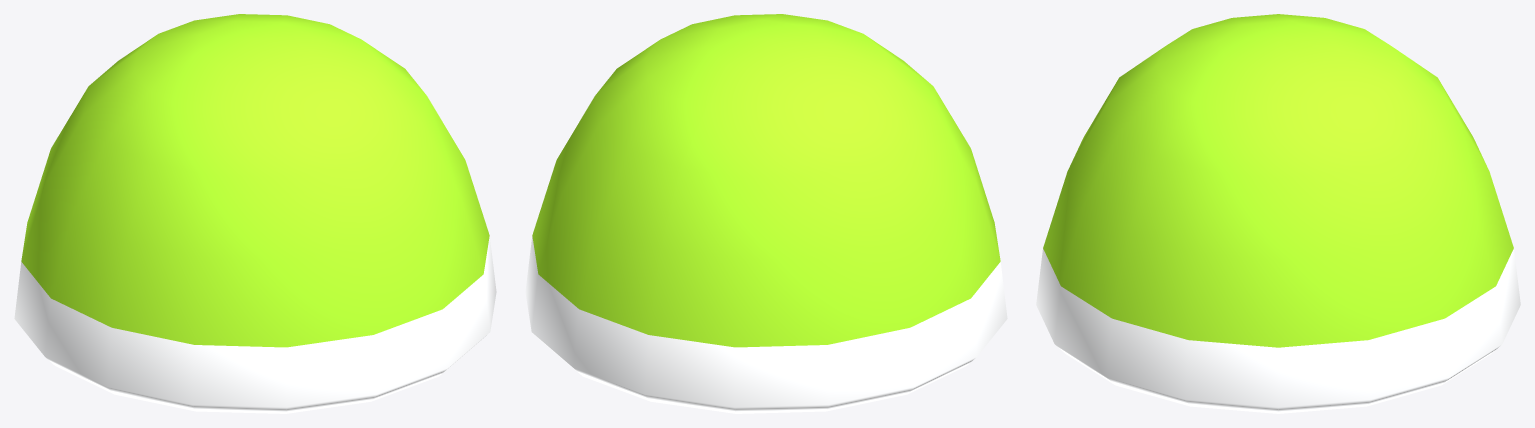
The model's file is Candy_14.glb.
The picture shows the model from 3 angles, left to right: view 1: azimuth 30°, elevation 25°; view 2: azimuth 150°, elevation 25°; view 3: azimuth 270°, elevation 25°; orthographic projection.
Visible parts, largest first — view 1: Candy_14; view 2: Candy_14; view 3: Candy_14.
Part boxes in pixels (bbox=[...]): Candy_14: bbox=[14, 14, 496, 413]; Candy_14: bbox=[525, 14, 1007, 413]; Candy_14: bbox=[1036, 14, 1520, 413].
Bounding box in the file's own units: 2.04 × 1.28 × 2.04.
1 material, 1 textured.
